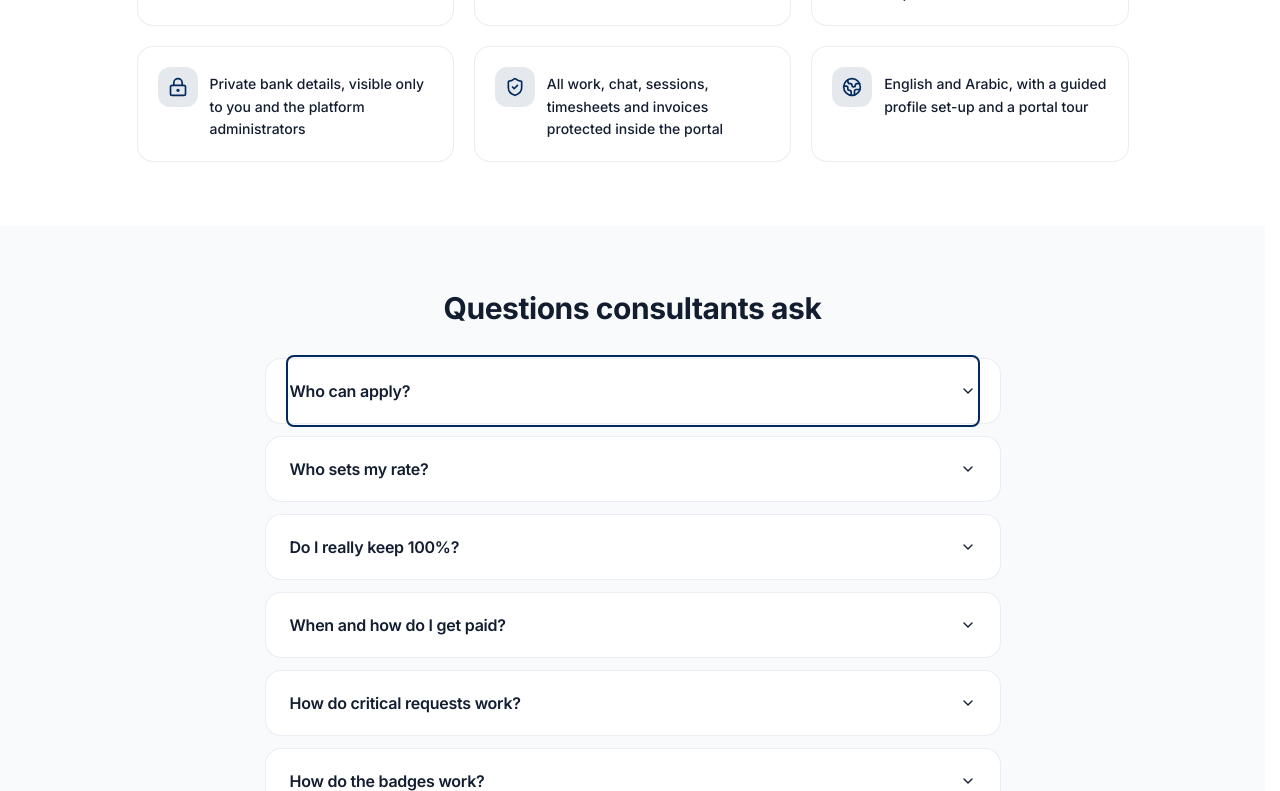
Scenario: ForConsultantsPage › opens and closes FAQ items with the keyboard, first item closed
(page scrolled)
Step 1. Press Enter in the button "Who can apply?", box [290,359,976,423]
Step 2. Click the button "Who can apply?" → (350, 391), box [290,359,976,423]
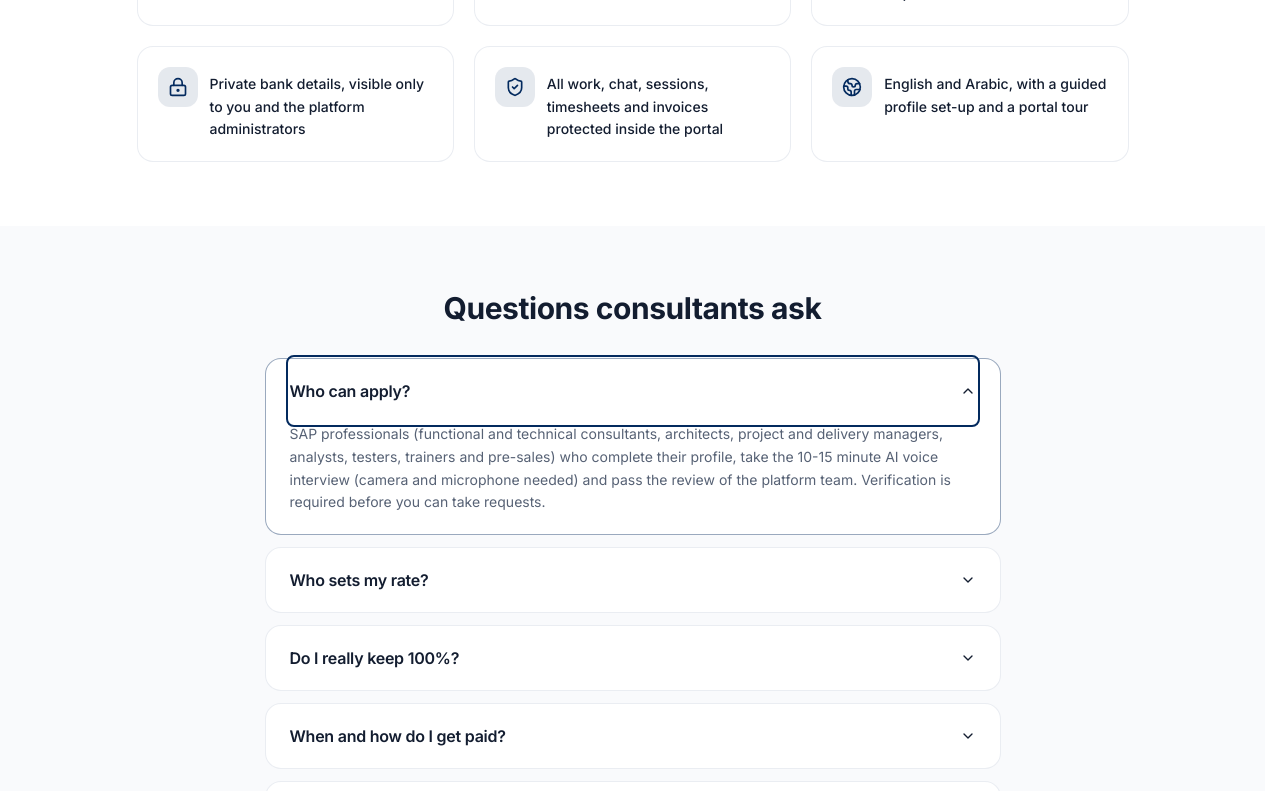
Check: the button "Who can apply?" is expanded
Check: the text "pre-sales) who complete their profile" is shown, box [290,425,951,510]
Step 3. Press Enter in the button "Who can apply?", box [290,359,976,423]
Step 4. Click the button "Who can apply?" → (350, 391), box [290,359,976,423]
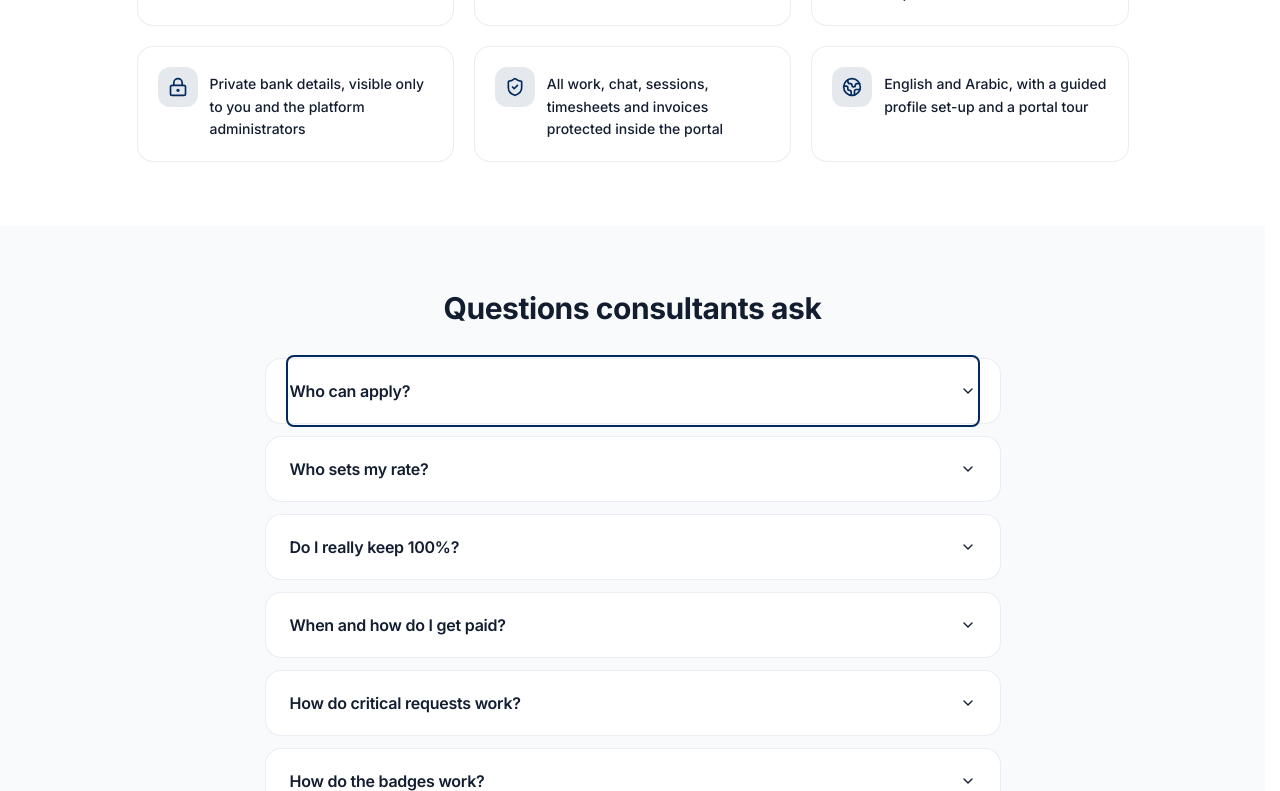
Check: the button "Who can apply?" is collapsed, box [290,359,976,423]
